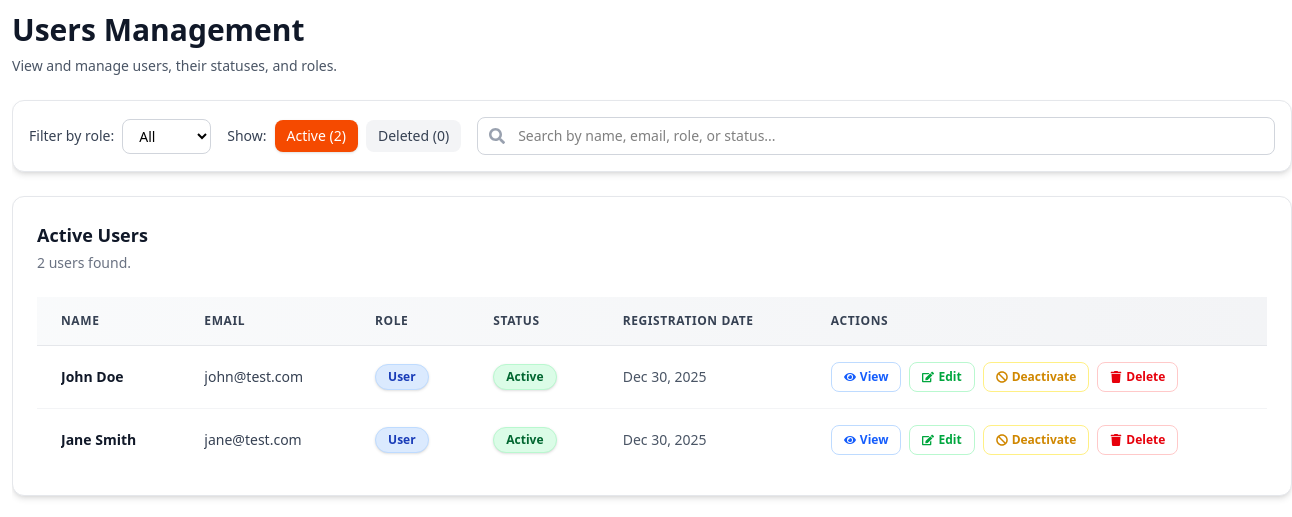
Test: AdminUsers › searches users by name or email
Type "John" into the field with placeholder "Search by name, email, role, or status..." at (876, 136), box [477,117,1275,155]
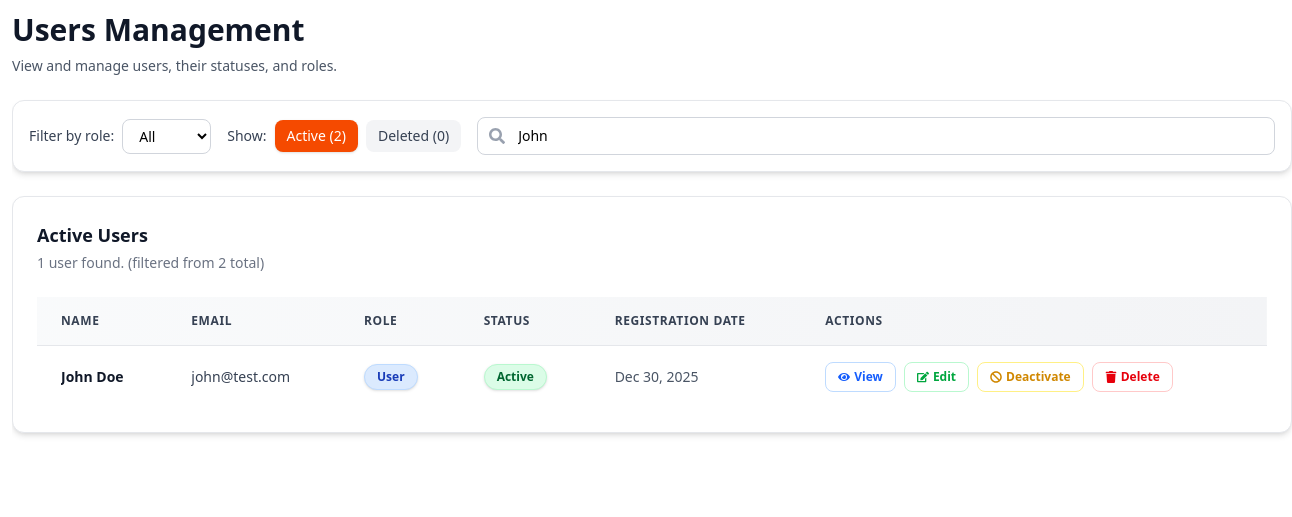
Expected: the text "John Doe" is shown, [61,367,124,386]
Expected: the text "Jane Smith" is gone
